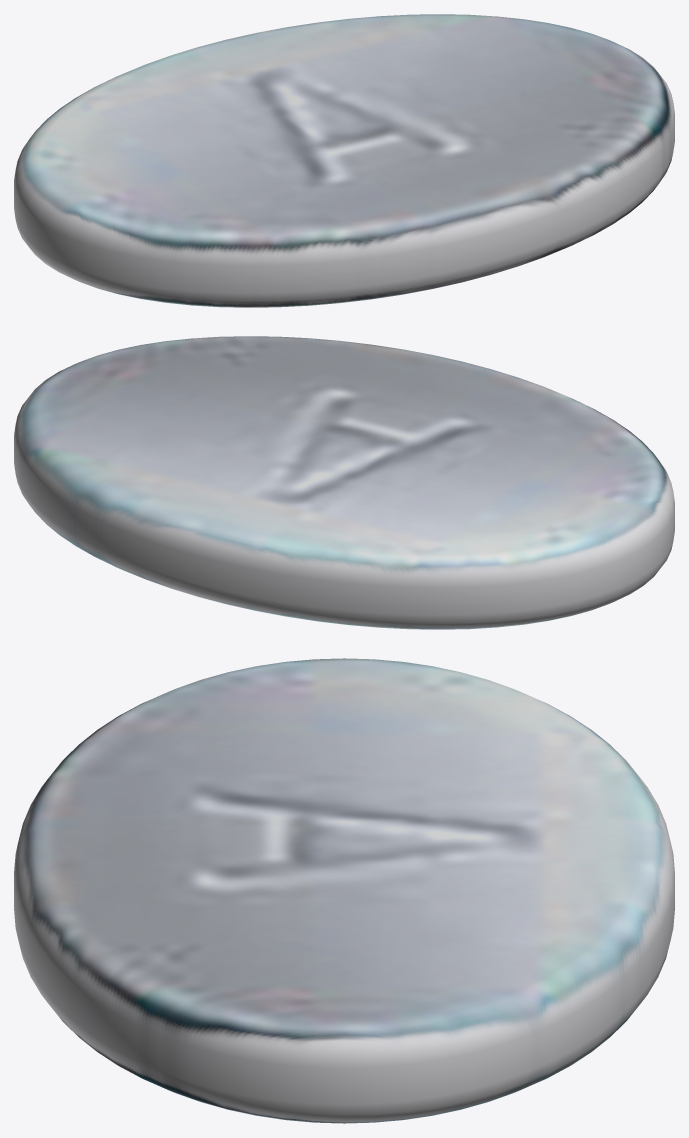
The model's file is alprazolam.glb.
The picture shows the model from 3 angles, top to bottom: view 1: azimuth 30°, elevation 25°; view 2: azimuth 150°, elevation 25°; view 3: azimuth 270°, elevation 25°; orthographic projection. The views are drawn at different scales.
Parts seen in each view (by area): view 1: 알프라졸람; view 2: 알프라졸람; view 3: 알프라졸람.
Part boxes in pixels (x1,y1,x2,y2): 알프라졸람: [14, 14, 674, 307]; 알프라졸람: [14, 336, 674, 629]; 알프라졸람: [14, 658, 674, 1123].
Size of the model in its own units: 1.4 by 0.16 by 1.
1 material, 1 textured.
